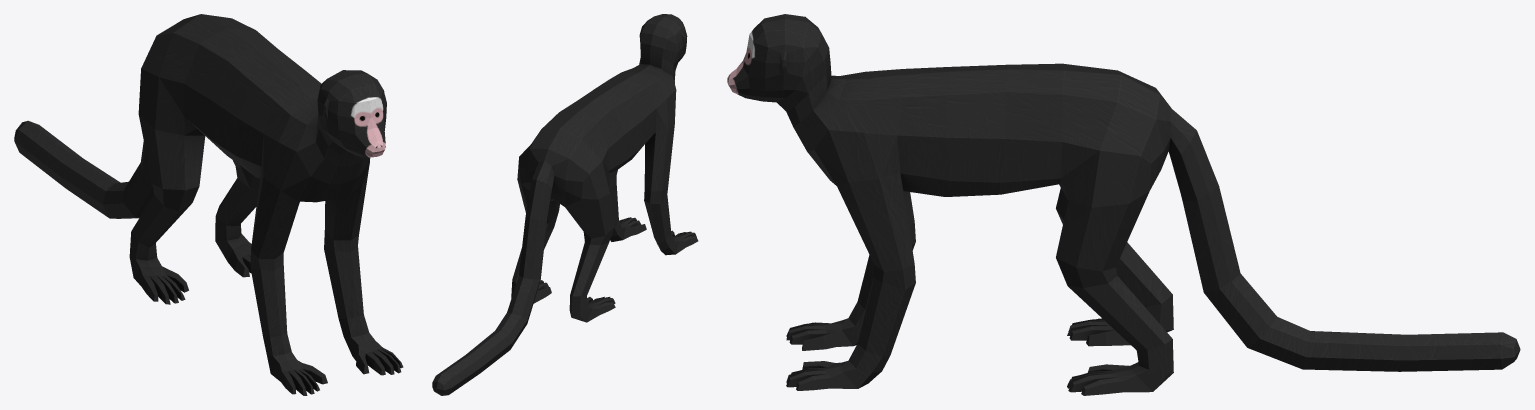
The model's file is 37cbfa13-e000-4291-baf4-5f2bd7a5f5be.glb.
3 views of the same model, side by side, from view 1: azimuth 30°, elevation 25°; view 2: azimuth 150°, elevation 25°; view 3: azimuth 270°, elevation 25° (orthographic). The views are drawn at different scales.
Visible parts, largest first — view 1: SpiderMonkey_Mesh; view 2: SpiderMonkey_Mesh; view 3: SpiderMonkey_Mesh.
Boxes of the visible parts, x1,y1,x2,y2 form: SpiderMonkey_Mesh: (14,14,403,395); SpiderMonkey_Mesh: (432,14,698,395); SpiderMonkey_Mesh: (727,14,1520,395).
Bounding box in the file's own units: 1.76 × 4.14 × 8.49.
Materials: 1 (1 with a texture image).
